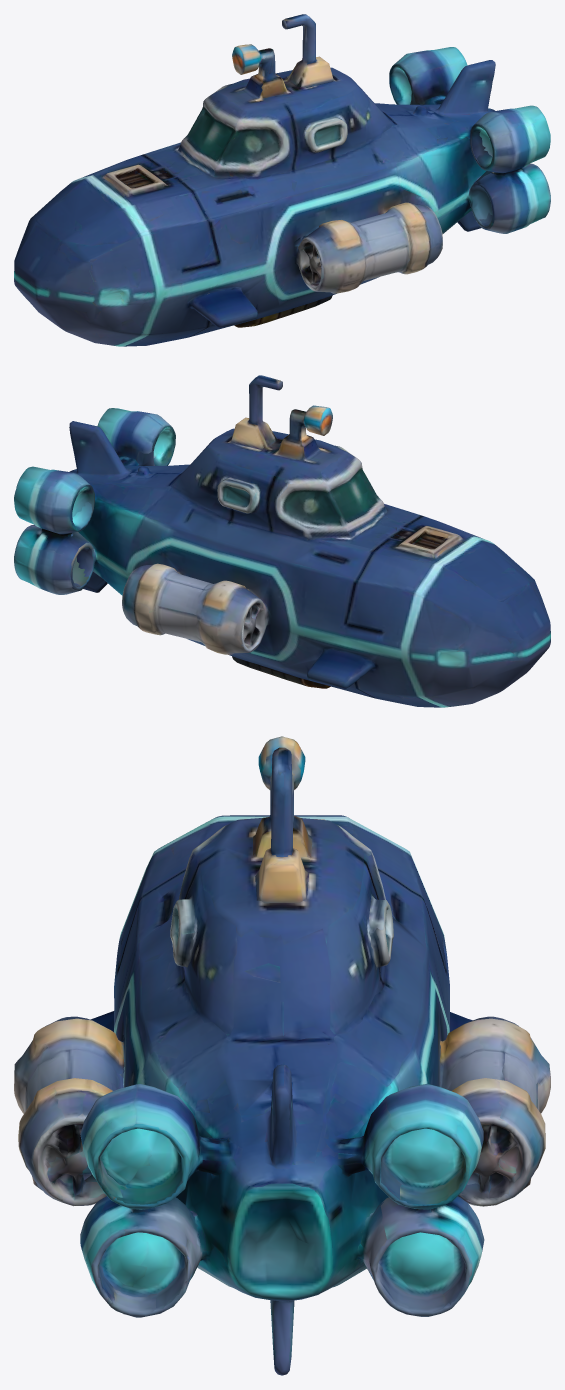
File: submarine.glb
3 renders of one model, top to bottom at view 1: azimuth 30°, elevation 25°; view 2: azimuth 150°, elevation 25°; view 3: azimuth 270°, elevation 25°, orthographic. The views are drawn at different scales.
Parts seen in each view (by area): view 1: texture_pbr_v128; view 2: texture_pbr_v128; view 3: texture_pbr_v128.
Part boxes in pixels (x1,y1,x2,y2): texture_pbr_v128: (14,14,550,346); texture_pbr_v128: (14,375,550,707); texture_pbr_v128: (14,736,550,1375).
Bounding box in the file's own units: 1.1 × 0.6509 × 0.6107.
Materials: 1 (1 with a texture image).
